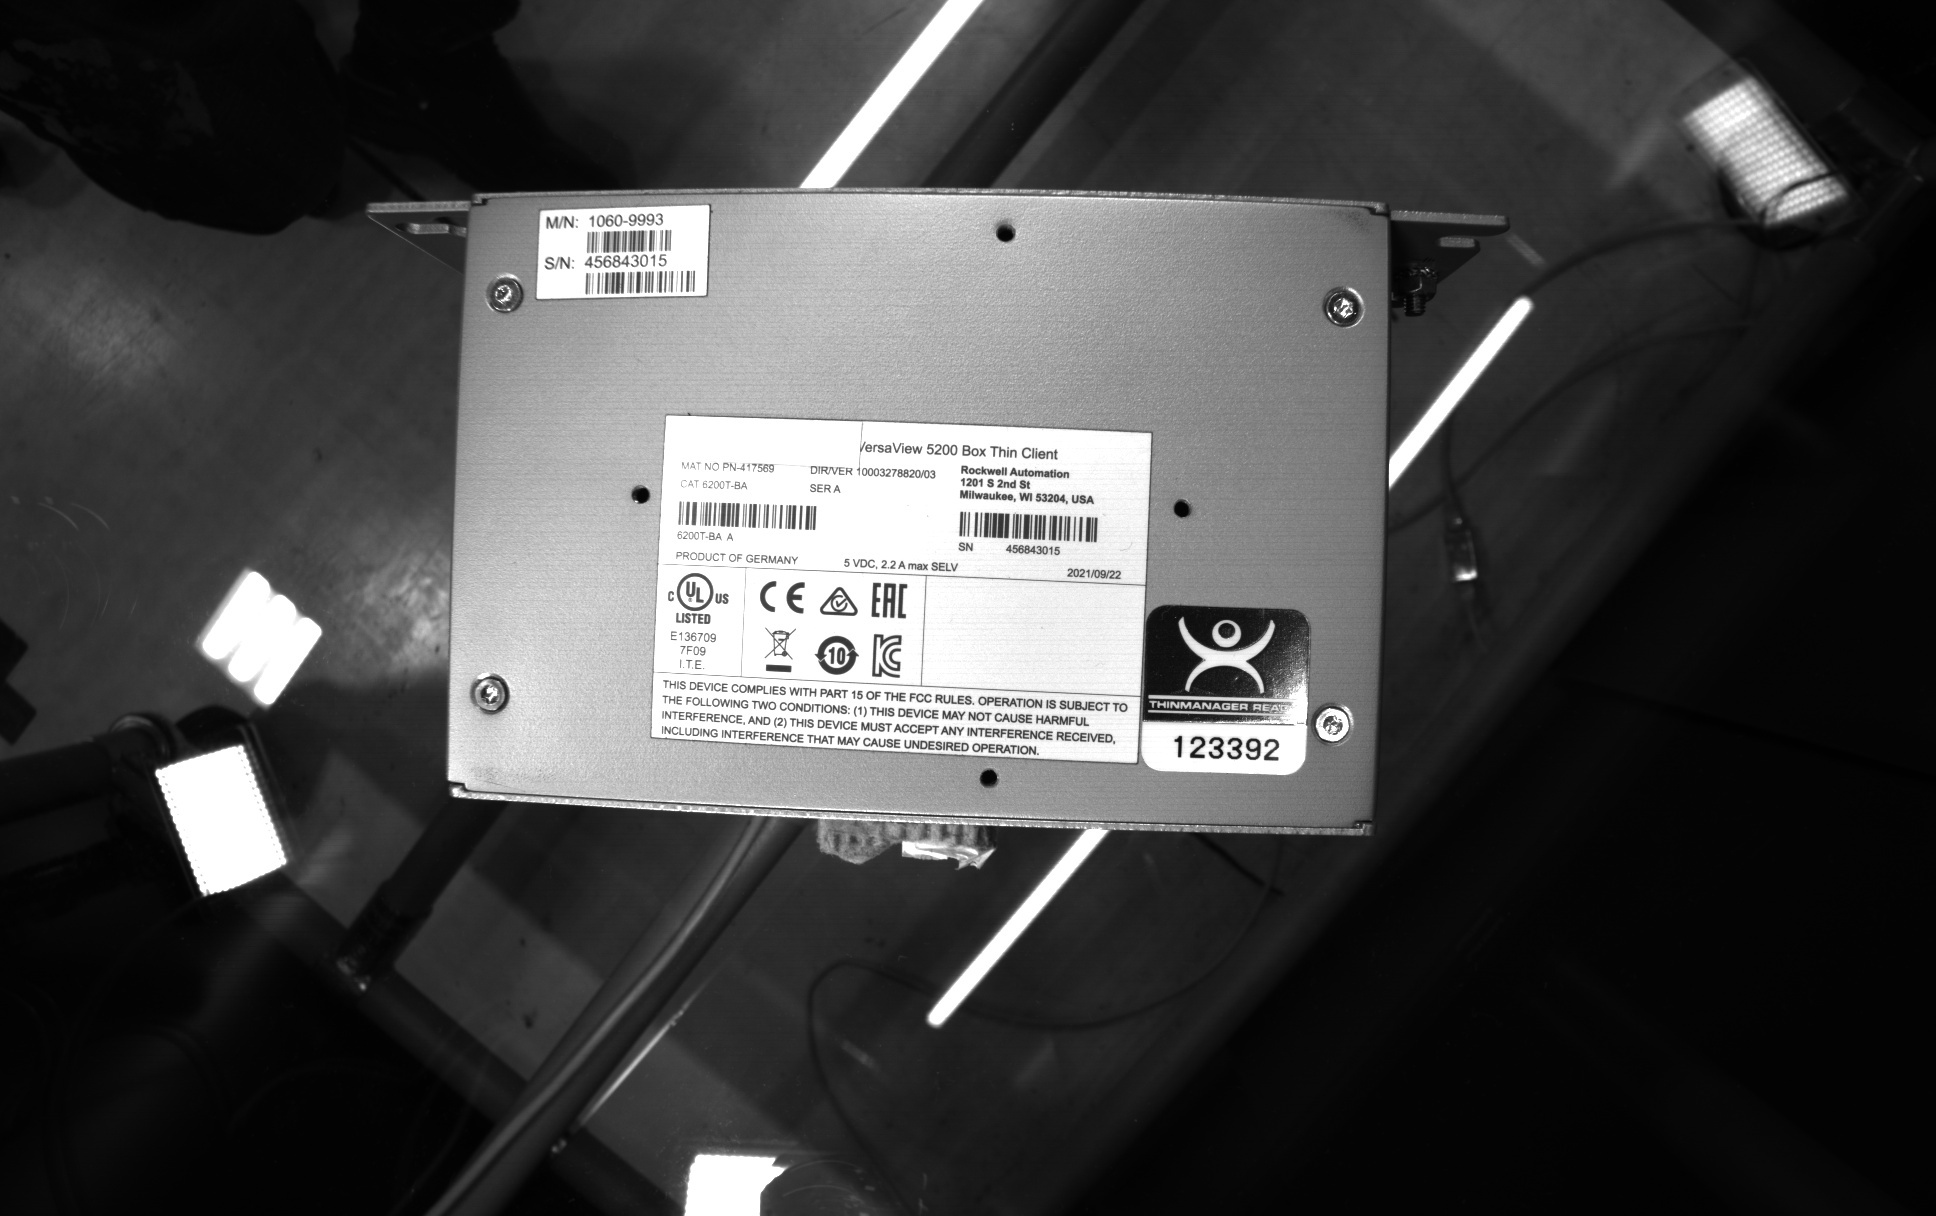Barcode: (668, 495, 820, 537), (951, 509, 1107, 546), (577, 265, 700, 303), (574, 223, 678, 258)
CamTop: (430, 172, 1415, 857)
Label_Seriennummer: (637, 402, 1164, 773)
Loch_Montage: (618, 474, 658, 518), (964, 762, 1007, 801), (1163, 486, 1202, 527), (985, 213, 1025, 249)
Schraube: (1315, 279, 1373, 332), (1308, 693, 1359, 754), (466, 668, 517, 724), (482, 270, 532, 324)
